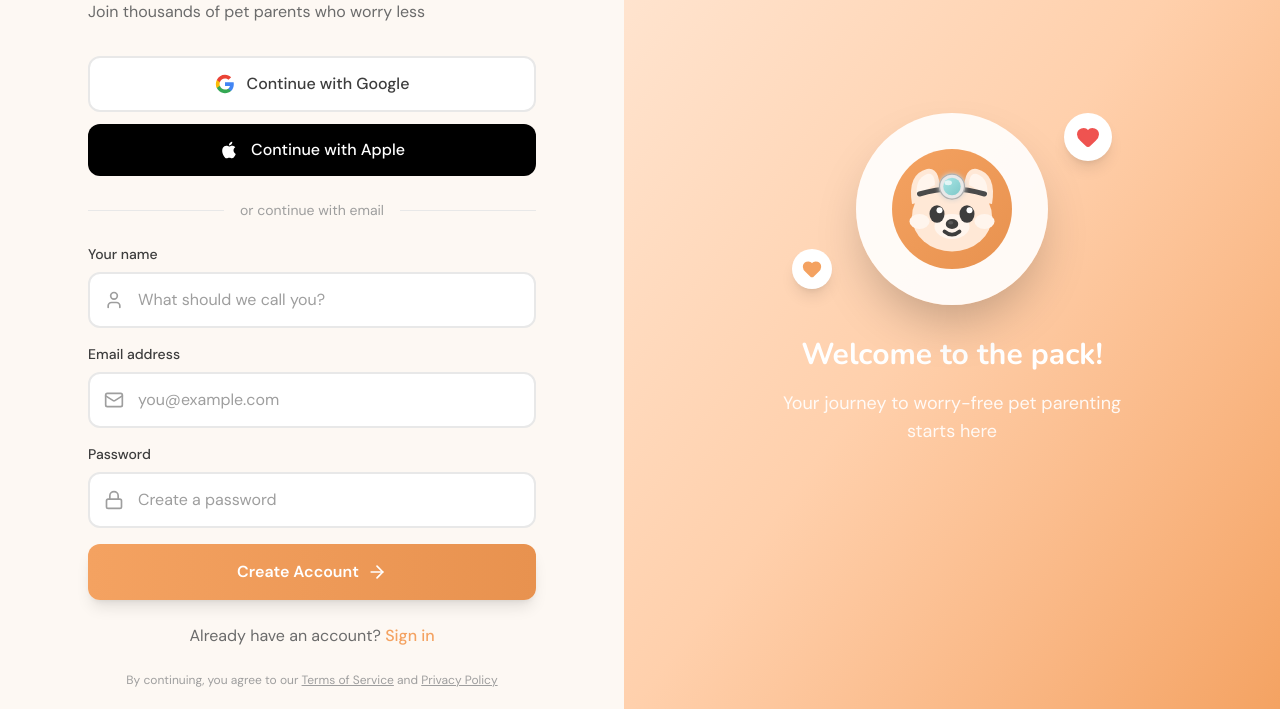
Test case: SignUp › shows error when name or email is empty
This screenshot has width=1280, height=709.
(page scrolled)
Step 1. Click the button "Create Account" → (312, 572), box [88,544,536,600]
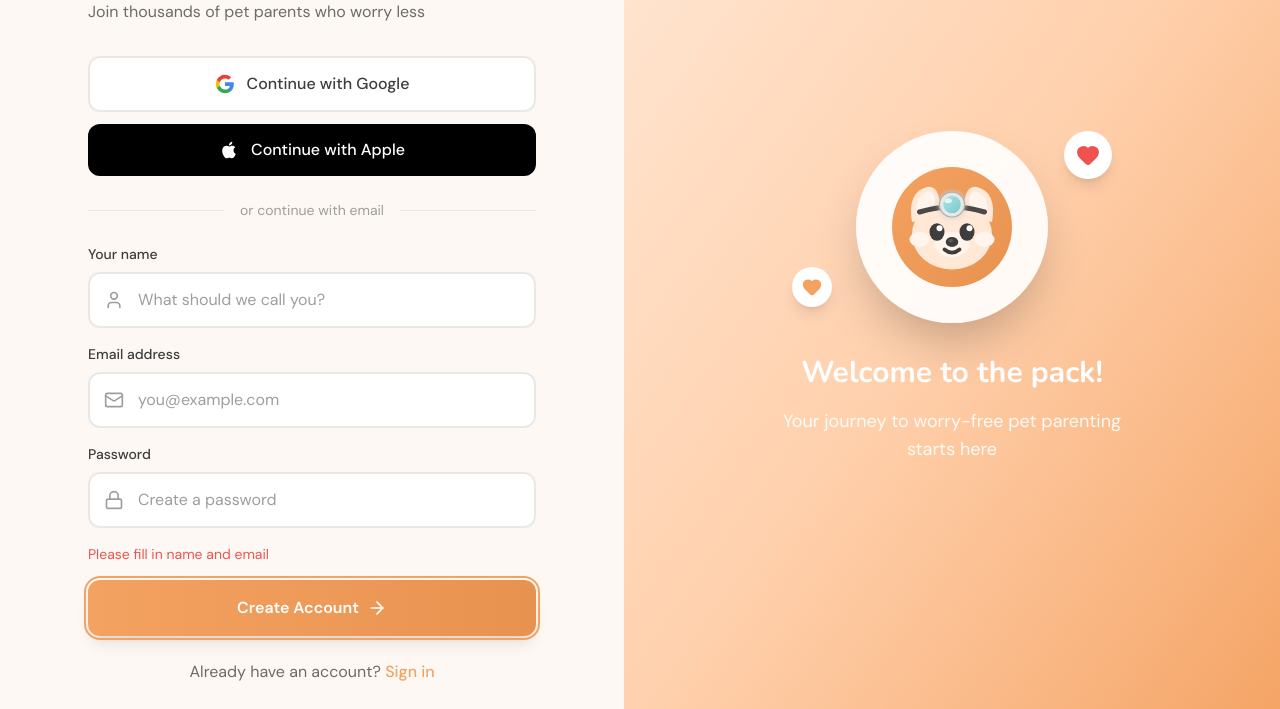
Check: the text "Please fill in name and email" is shown, box [88,545,269,563]
